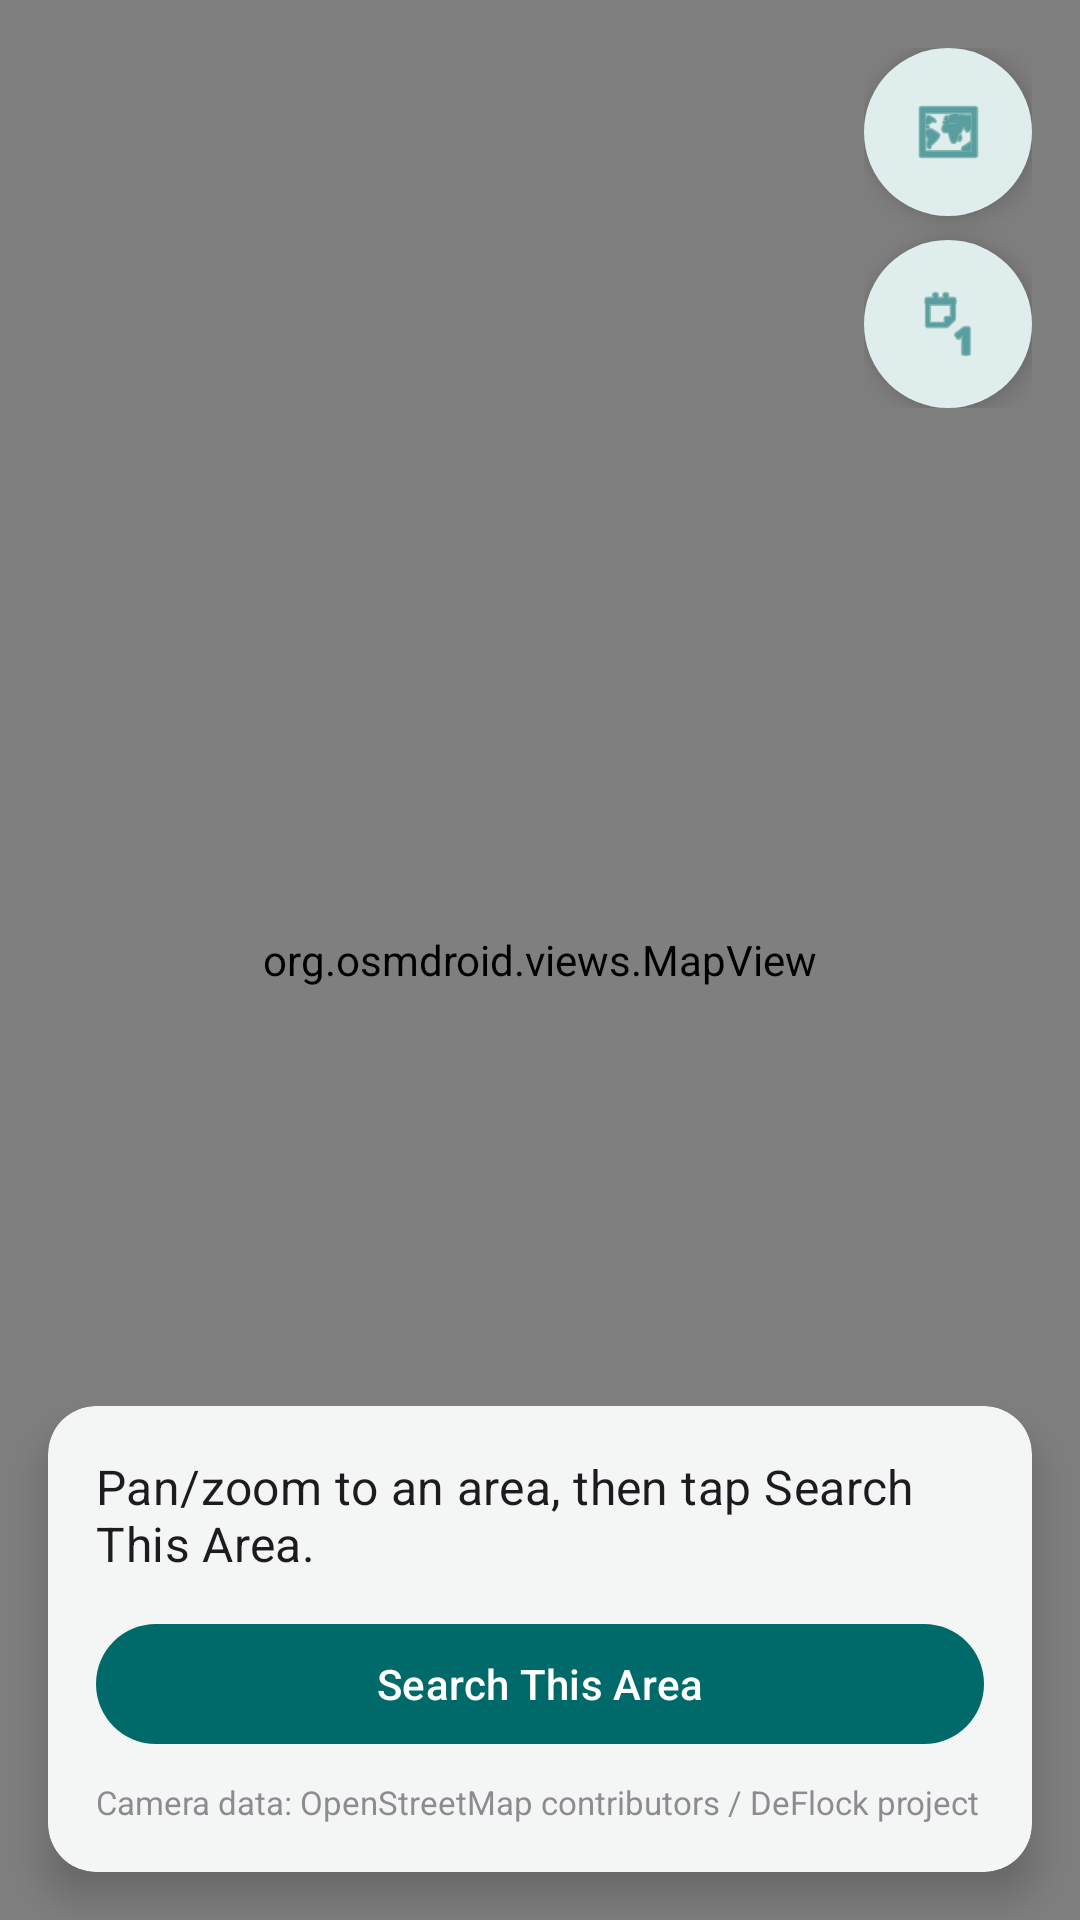

Icons on this 1080×1920 Android screen, each with its box as (x1, y1, x2, y2):
Toggle Satellite: (864, 48, 1032, 216)
